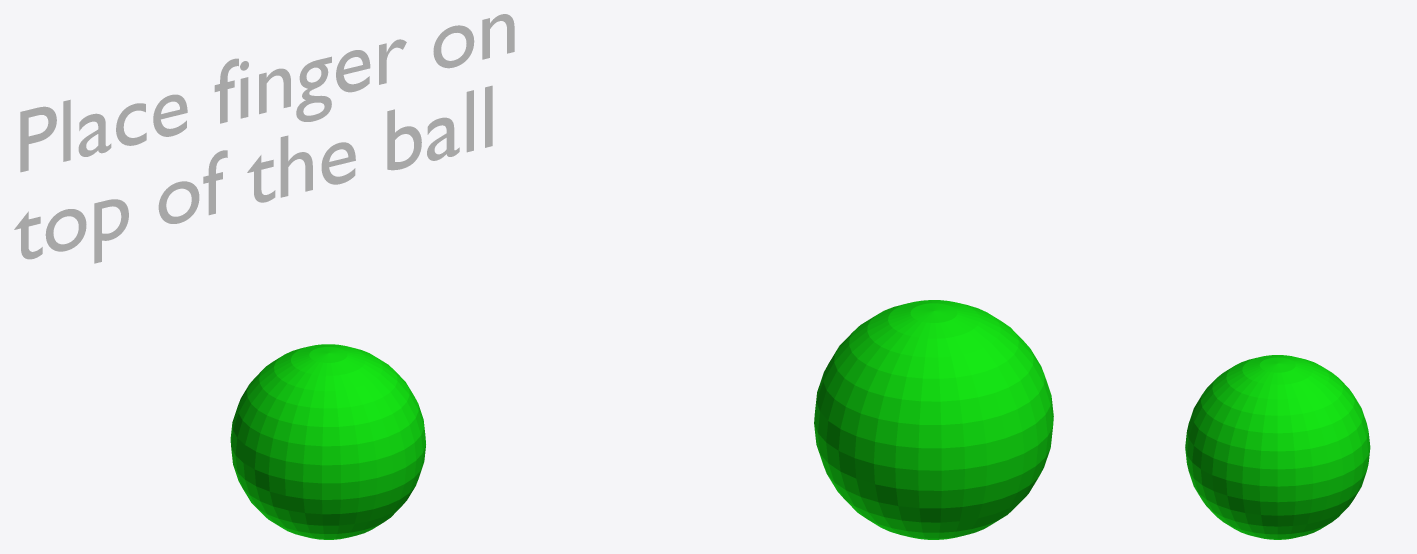
File: putyourfingfer.gltf
3 views of the same model, side by side, from view 1: azimuth 30°, elevation 25°; view 2: azimuth 150°, elevation 25°; view 3: azimuth 270°, elevation 25° (orthographic). The views are drawn at different scales.
Visible parts, largest first — view 1: Sphere, Text; view 2: Sphere; view 3: Sphere.
Part boxes in pixels (bbox=[...]): Sphere: bbox=[230, 344, 425, 539]; Text: bbox=[14, 14, 514, 263]; Sphere: bbox=[814, 300, 1053, 539]; Sphere: bbox=[1185, 355, 1370, 539].
Bounding box in the file's own units: 5.89 × 4.84 × 2.35.
